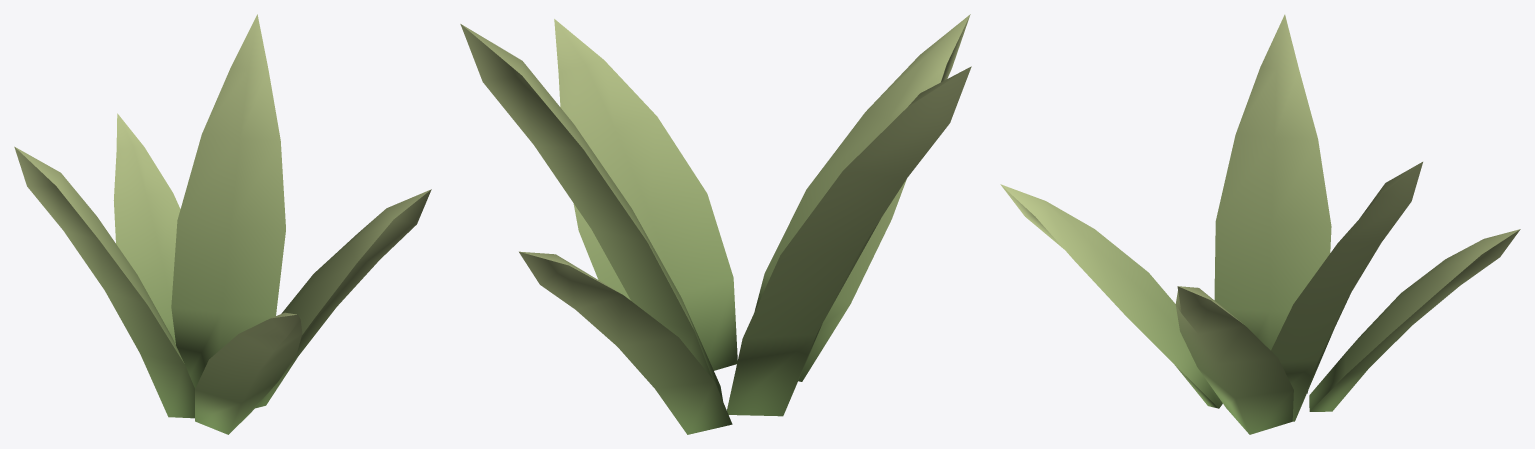
Rendered from grass_small_a.glb.
The picture shows the model from 3 angles, left to right: view 1: azimuth 30°, elevation 25°; view 2: azimuth 150°, elevation 25°; view 3: azimuth 270°, elevation 25°; orthographic projection. The views are drawn at different scales.
Parts seen in each view (by area): view 1: Grass_Small_A.001; view 2: Grass_Small_A.001; view 3: Grass_Small_A.001.
Boxes of the visible parts, bbox=[...] form: Grass_Small_A.001: bbox=[14, 14, 431, 434]; Grass_Small_A.001: bbox=[460, 14, 971, 434]; Grass_Small_A.001: bbox=[1000, 14, 1520, 434].
Size of the model in its own units: 0.2958 by 0.2403 by 0.3638.
